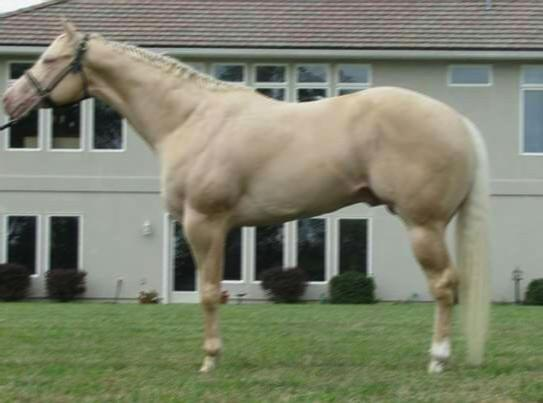horse: (0, 13, 492, 376)
